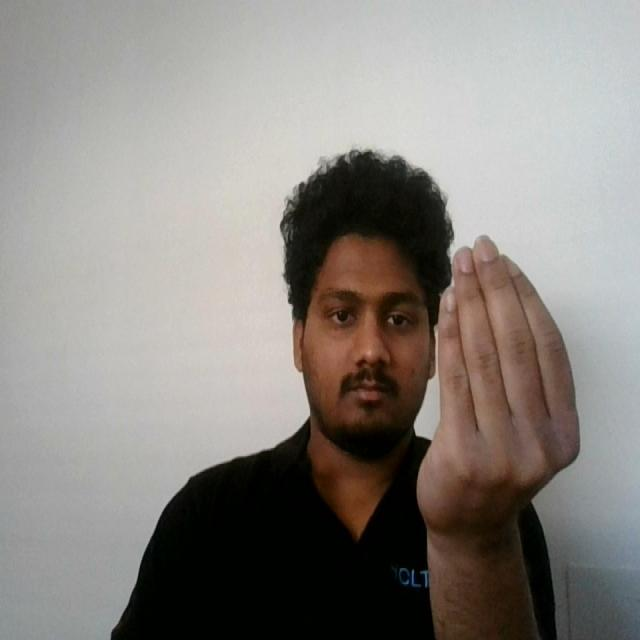Please: (408, 229, 592, 554)
